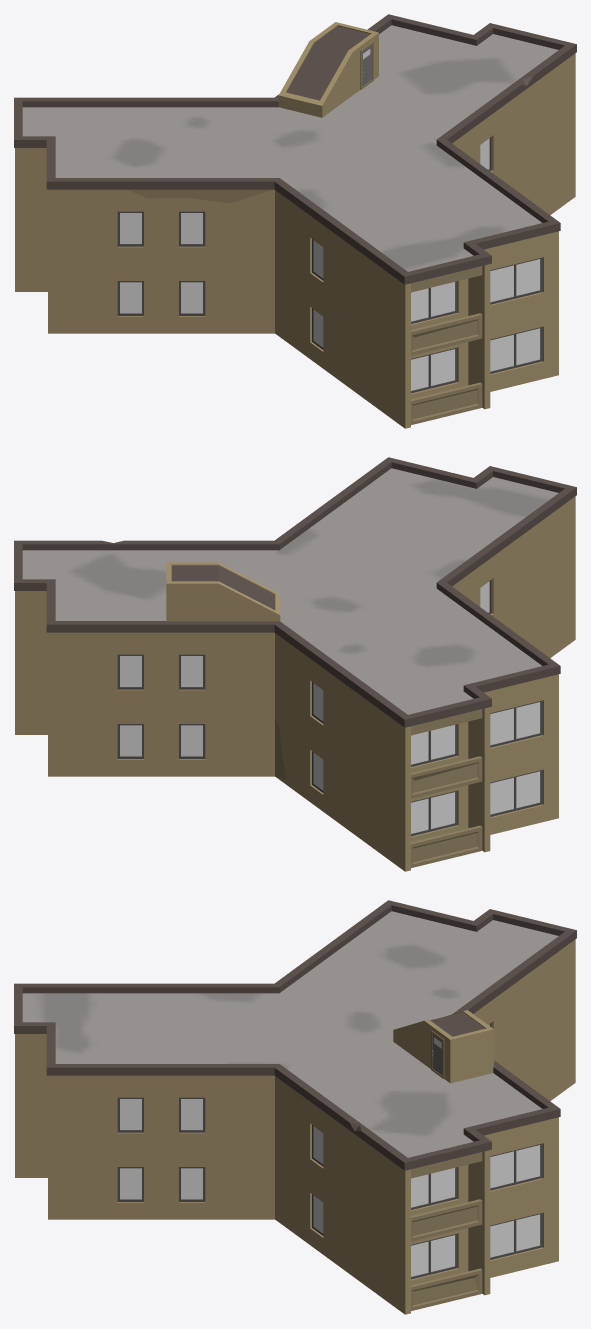
Rendered from SM_Bldg_City_Commercial_02_Roof.fbx.
3 views of the same model, one above another, from view 1: azimuth 30°, elevation 25°; view 2: azimuth 150°, elevation 25°; view 3: azimuth 270°, elevation 25° (orthographic).
Visible parts, largest first — view 1: SM_Bldg_City_Commercial_02_Roof, SM_Bldg_City_Commercial_02_Roof_Glass; view 2: SM_Bldg_City_Commercial_02_Roof, SM_Bldg_City_Commercial_02_Roof_Glass; view 3: SM_Bldg_City_Commercial_02_Roof, SM_Bldg_City_Commercial_02_Roof_Glass.
Part boxes in pixels (box(x1,y1,x2,y2)): SM_Bldg_City_Commercial_02_Roof: box(14, 14, 576, 428); SM_Bldg_City_Commercial_02_Roof_Glass: box(120, 138, 540, 390); SM_Bldg_City_Commercial_02_Roof: box(14, 457, 576, 871); SM_Bldg_City_Commercial_02_Roof_Glass: box(120, 581, 540, 833); SM_Bldg_City_Commercial_02_Roof: box(14, 900, 576, 1314); SM_Bldg_City_Commercial_02_Roof_Glass: box(120, 1024, 540, 1276).
Size of the model in its own units: 2845 by 971 by 2577.
